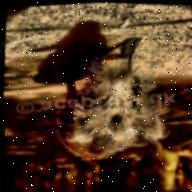boar: (47, 18, 190, 162)
